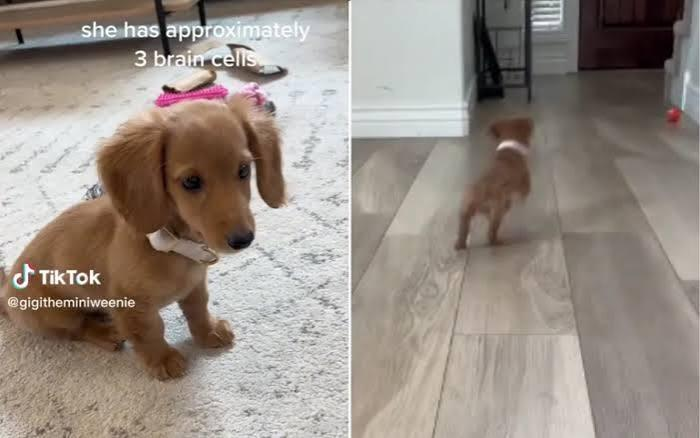puppy-dog: (0, 92, 290, 381), (454, 116, 535, 251)
